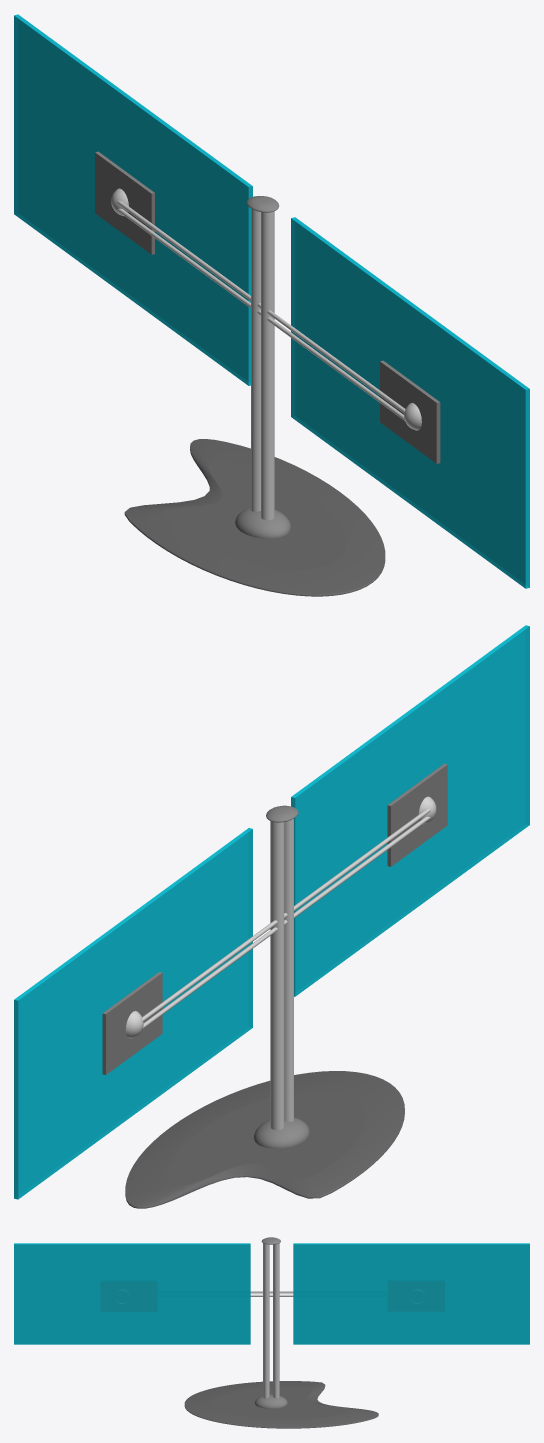
Rendered from ecran.fbx.
3 renders of one model, top to bottom at view 1: azimuth 30°, elevation 25°; view 2: azimuth 150°, elevation 25°; view 3: azimuth 270°, elevation 25°, orthographic. The views are drawn at different scales.
Parts seen in each view (by area): view 1: ecran; view 2: ecran; view 3: ecran.
Part boxes in pixels (left/top/right/bottom): ecran: left=14, top=14, right=529, bottom=596; ecran: left=14, top=625, right=529, bottom=1208; ecran: left=14, top=1237, right=529, bottom=1428.
Bounding box in the file's own units: 0.044 × 0.0737 × 0.2073.
